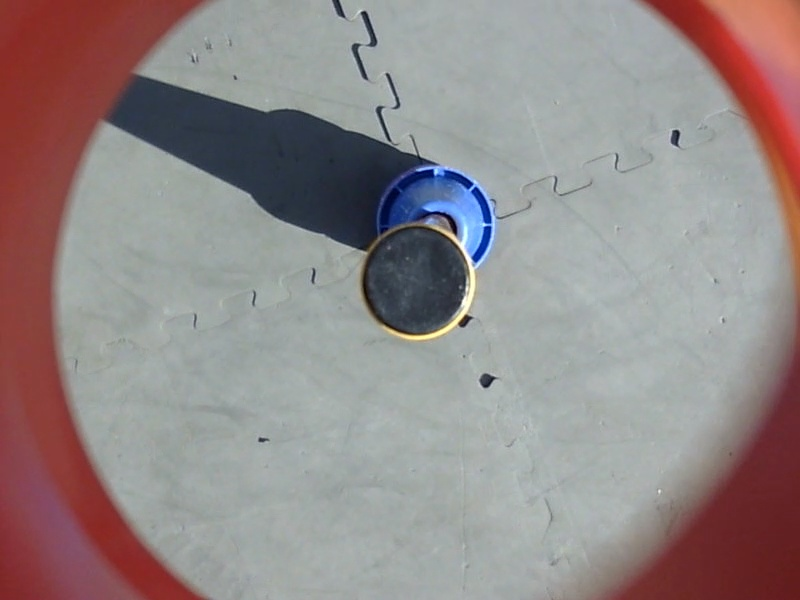tip: (354, 220, 481, 348)
